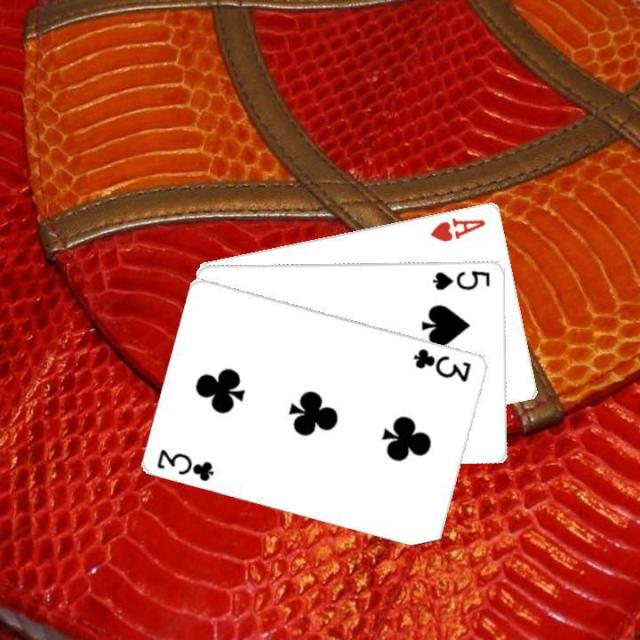3C: (410, 344, 474, 384), (153, 444, 217, 484)
5S: (430, 266, 492, 292)
AH: (427, 214, 488, 244)
